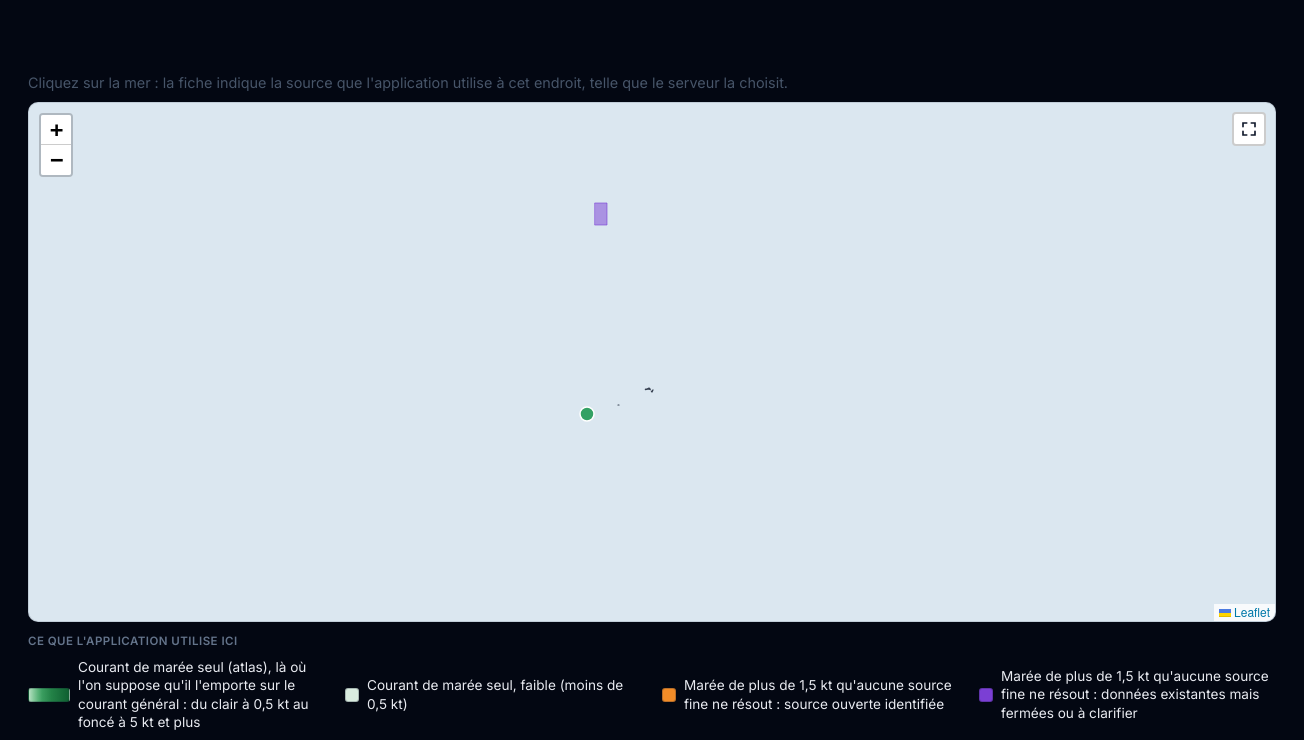
Test case: TidalSourcesMap › asks the server which source applies where the reader clicked
Click the element with class "methodo-map-canvas" at (652, 362), box x1=28 y1=102 x2=1276 y2=622
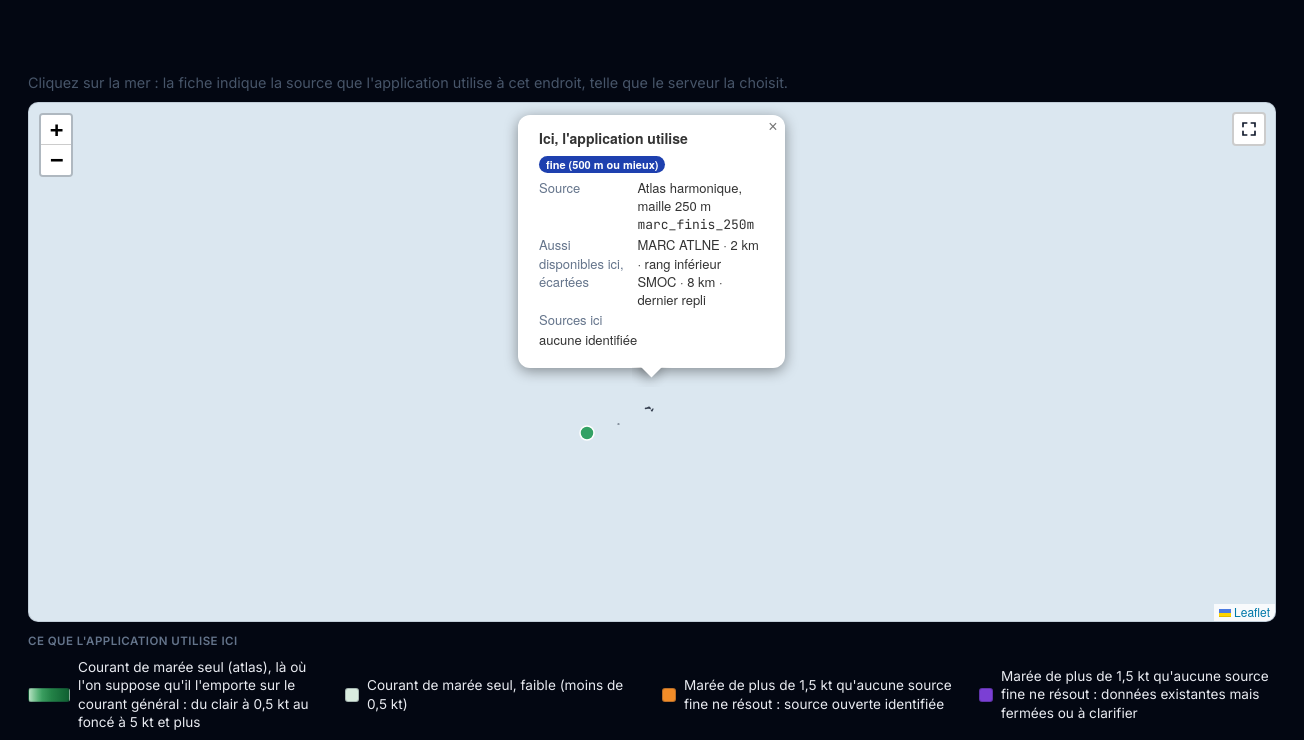
Check: the element with class "leaflet-popup-content" shows "marc_finis_250m", box x1=637 y1=216 x2=754 y2=233
Check: the element with class "leaflet-popup-content" shows "Aussi disponibles ici, écartées", box x1=539 y1=236 x2=624 y2=291
Check: the element with class "leaflet-popup-content" shows "MARC ATLNE · 2 km · rang inférieur", box x1=637 y1=236 x2=759 y2=273
